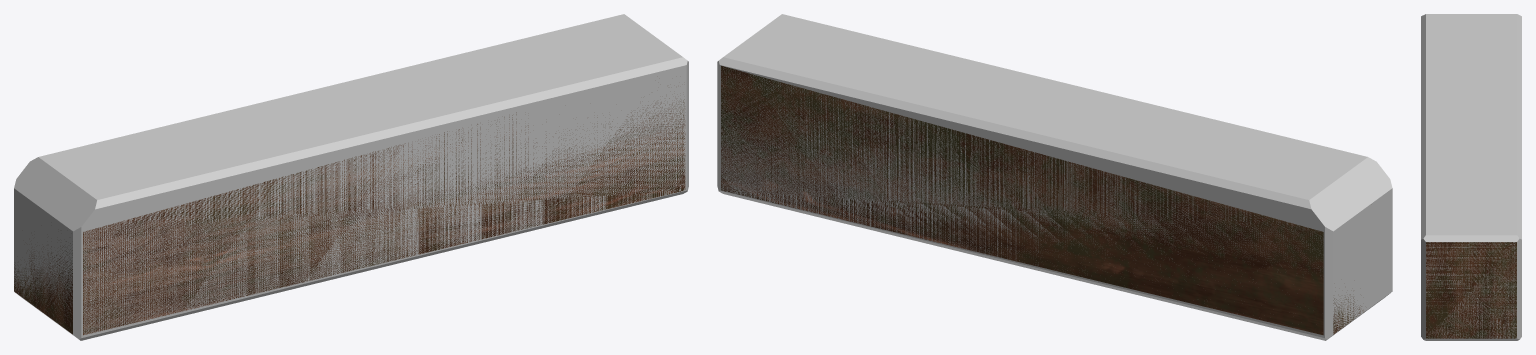
File: SM_ThickBeam.fbx
The picture shows the model from 3 angles, left to right: view 1: azimuth 30°, elevation 25°; view 2: azimuth 150°, elevation 25°; view 3: azimuth 270°, elevation 25°; orthographic projection. The views are drawn at different scales.
Parts seen in each view (by area): view 1: SM_ThickBeam_ConvexHulls, SM_ThickBeam; view 2: SM_ThickBeam_ConvexHulls, SM_ThickBeam; view 3: SM_ThickBeam_ConvexHulls, SM_ThickBeam.
Boxes of the visible parts, bbox=[...] form: SM_ThickBeam_ConvexHulls: bbox=[14, 14, 688, 340]; SM_ThickBeam: bbox=[14, 98, 685, 335]; SM_ThickBeam_ConvexHulls: bbox=[717, 14, 1392, 340]; SM_ThickBeam: bbox=[721, 66, 1363, 335]; SM_ThickBeam_ConvexHulls: bbox=[1421, 14, 1521, 340]; SM_ThickBeam: bbox=[1426, 242, 1516, 338].
Bounding box in the file's own units: 254 × 46.61 × 53.95.
2 materials, 1 textured.
